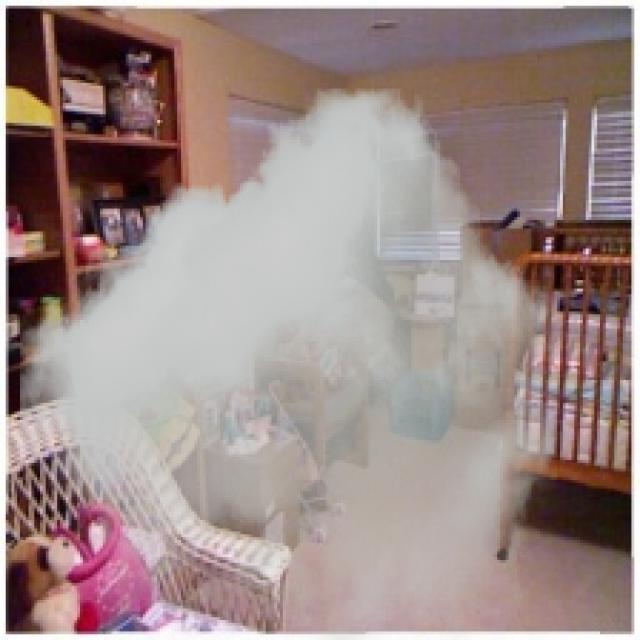Smoke: (20, 88, 560, 638)
